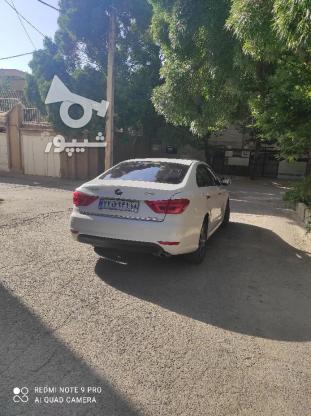car: (99, 195, 141, 211)
